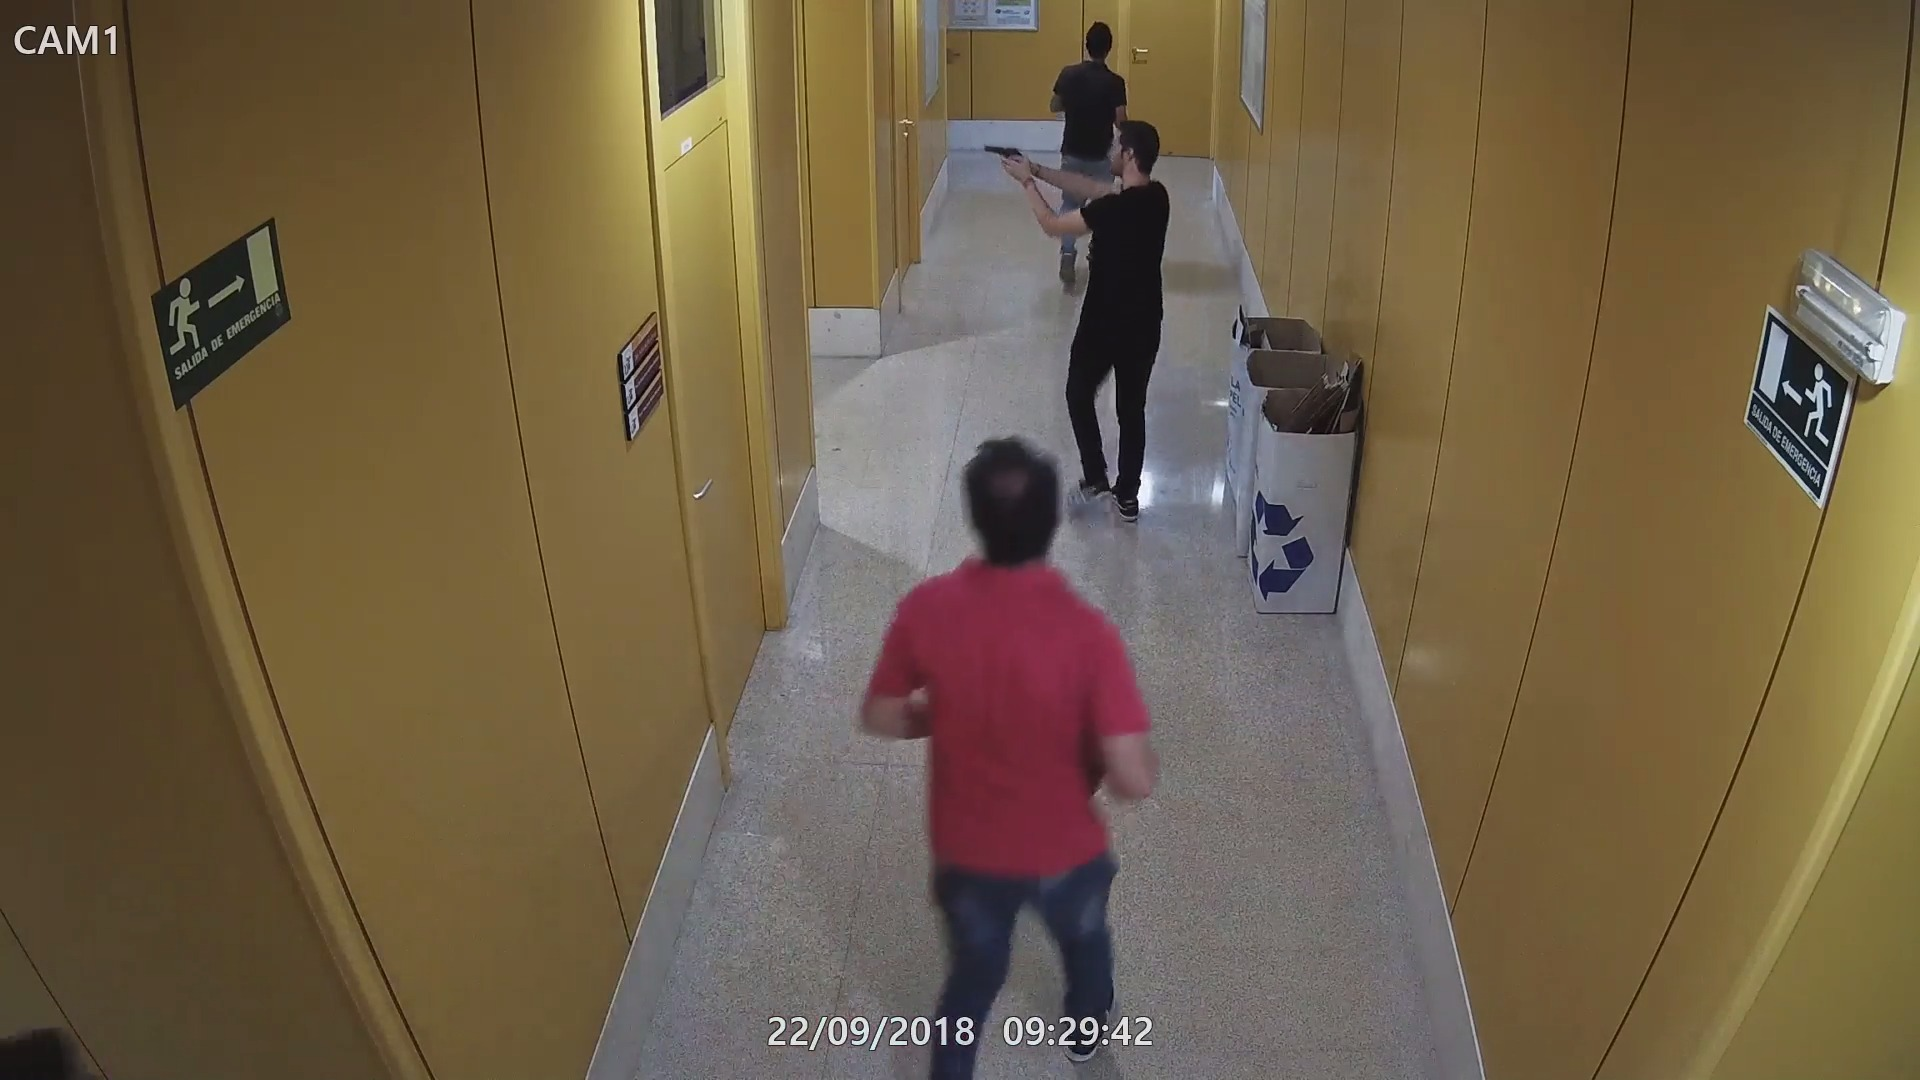Handgun: (978, 140, 1035, 187)
